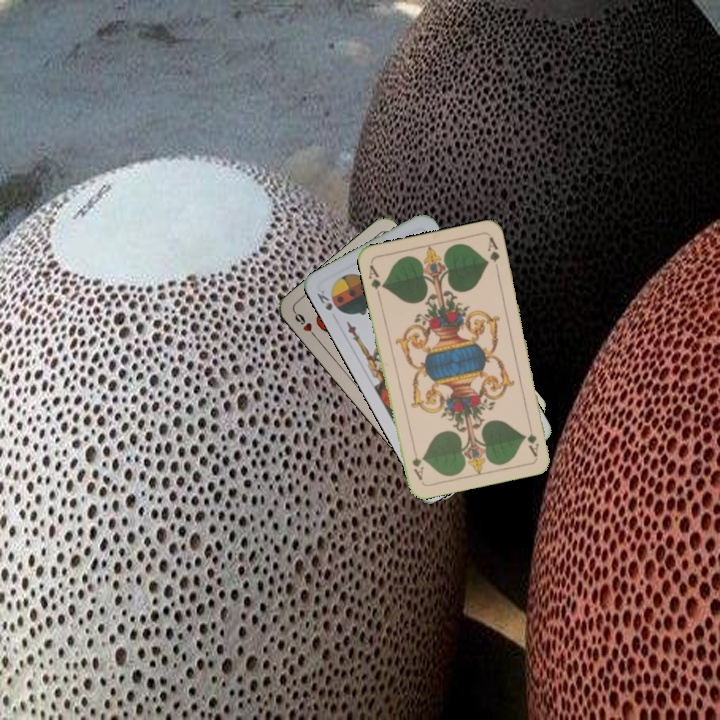GA: (364, 261, 387, 300), (522, 418, 542, 459)
H9: (290, 308, 320, 342)
SK: (313, 286, 335, 313)
